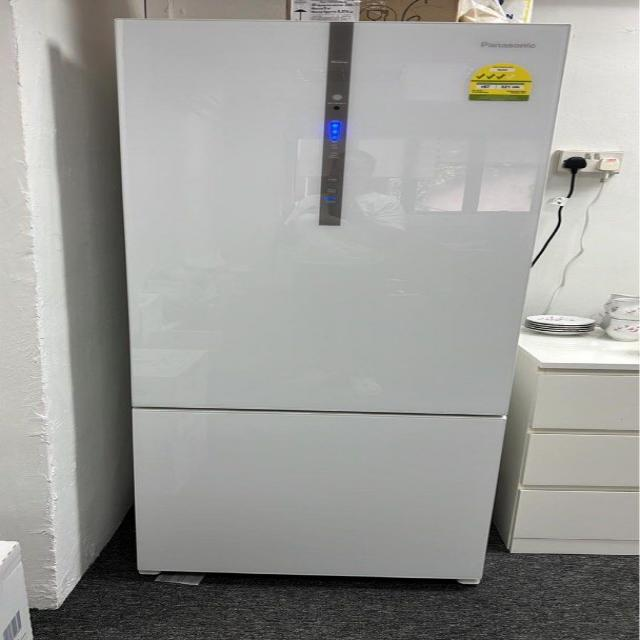refrigerator: (110, 16, 575, 584)
